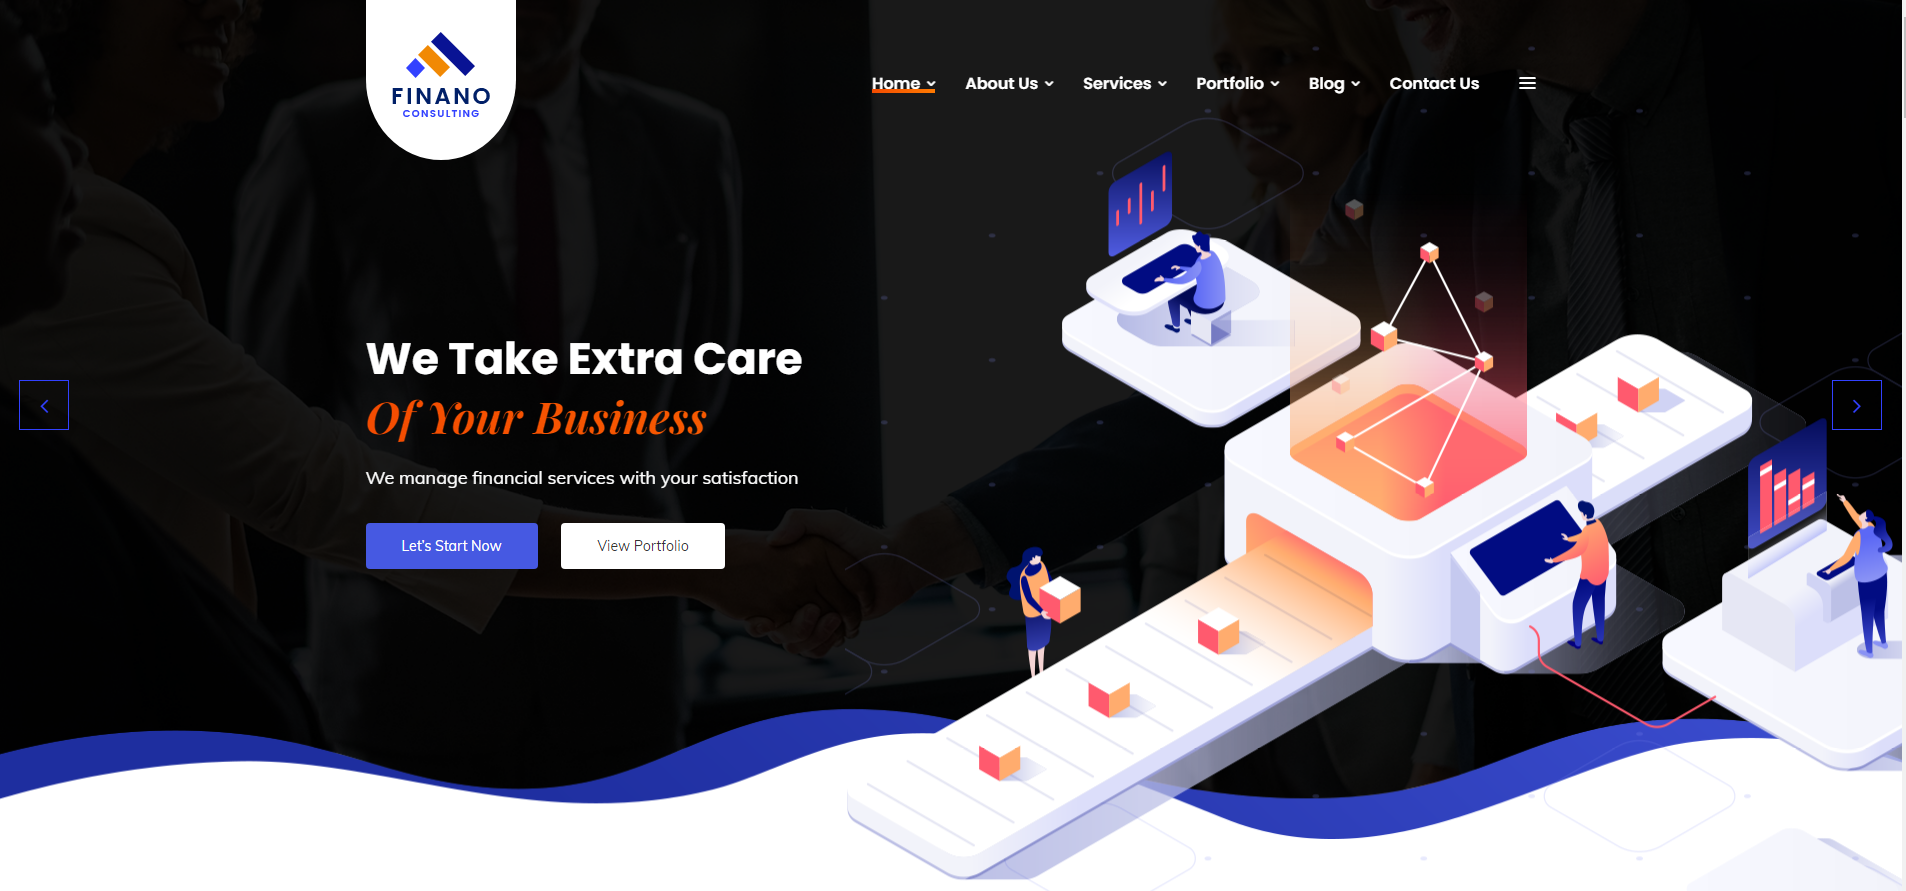menu-bar: (40, 17, 1825, 202)
